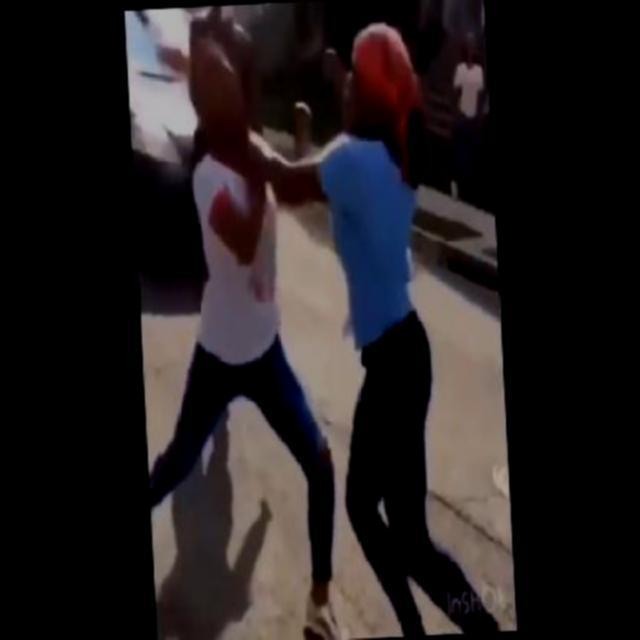fight: (185, 16, 446, 638)
